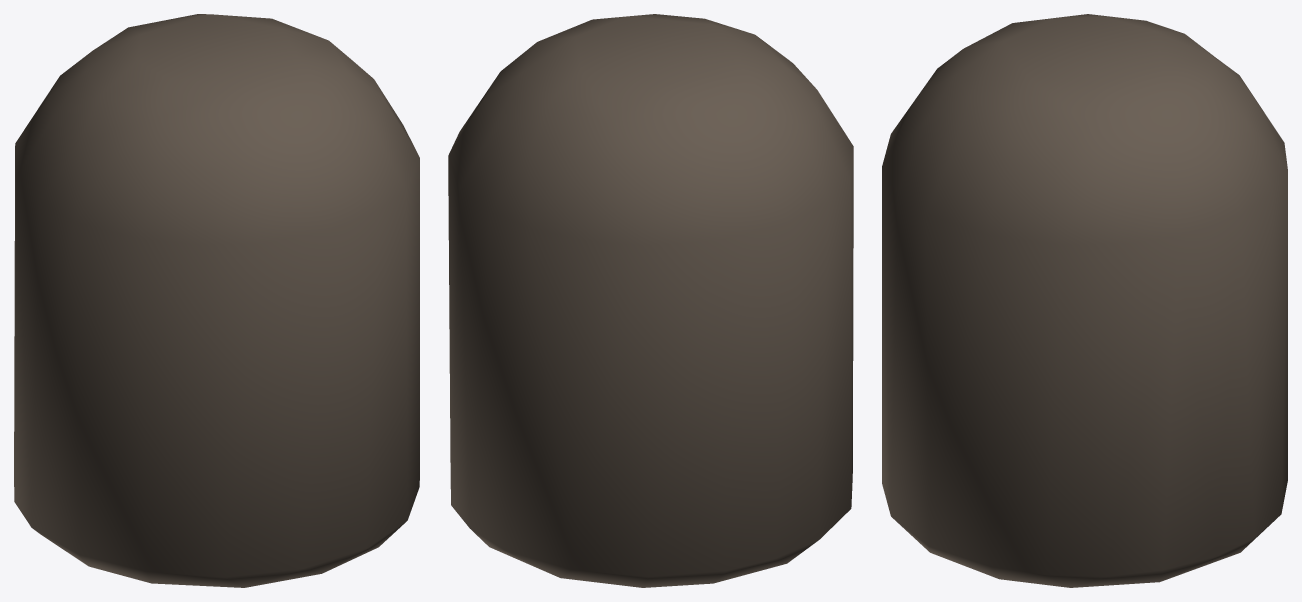
File: Bullet.fbx
3 views of the same model, side by side, from view 1: azimuth 30°, elevation 25°; view 2: azimuth 150°, elevation 25°; view 3: azimuth 270°, elevation 25° (orthographic).
Parts seen in each view (by area): view 1: Cylinder; view 2: Cylinder; view 3: Cylinder.
Part boxes in pixels (x1=…): Cylinder: x1=14, y1=14, x2=419, y2=587; Cylinder: x1=448, y1=14, x2=853, y2=587; Cylinder: x1=882, y1=14, x2=1287, y2=587.
Bounding box in the file's own units: 200 × 250 × 200.
